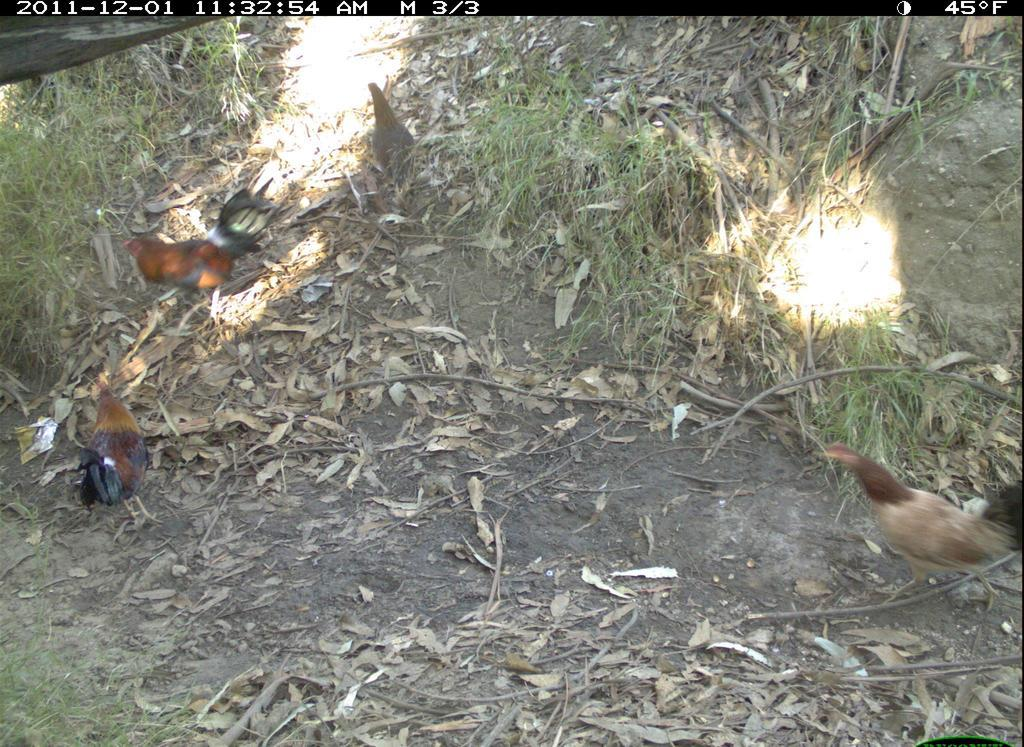bird: (825, 429, 1023, 589), (118, 190, 277, 306), (81, 374, 167, 536), (359, 82, 437, 201)
